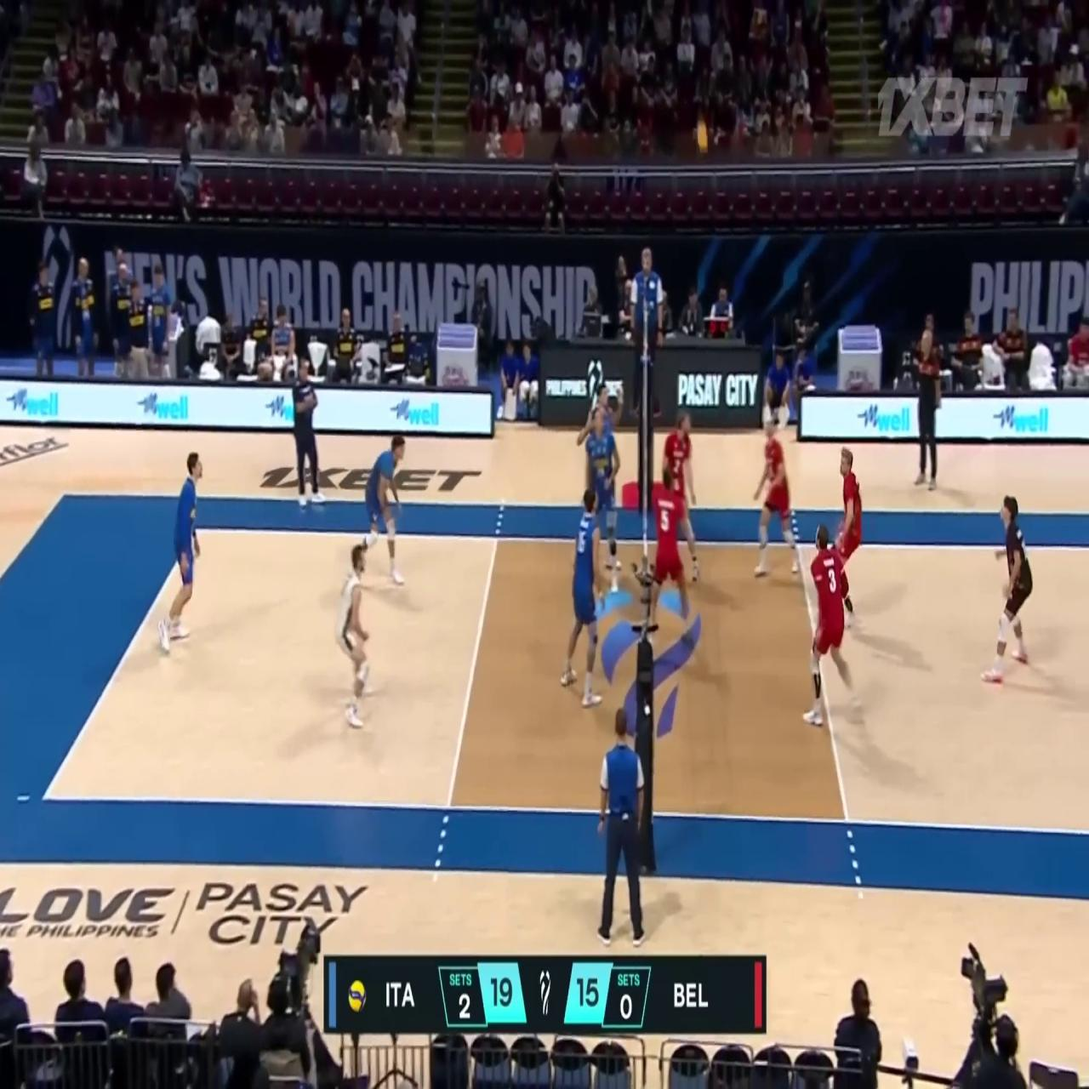ball: (695, 119, 709, 152)
